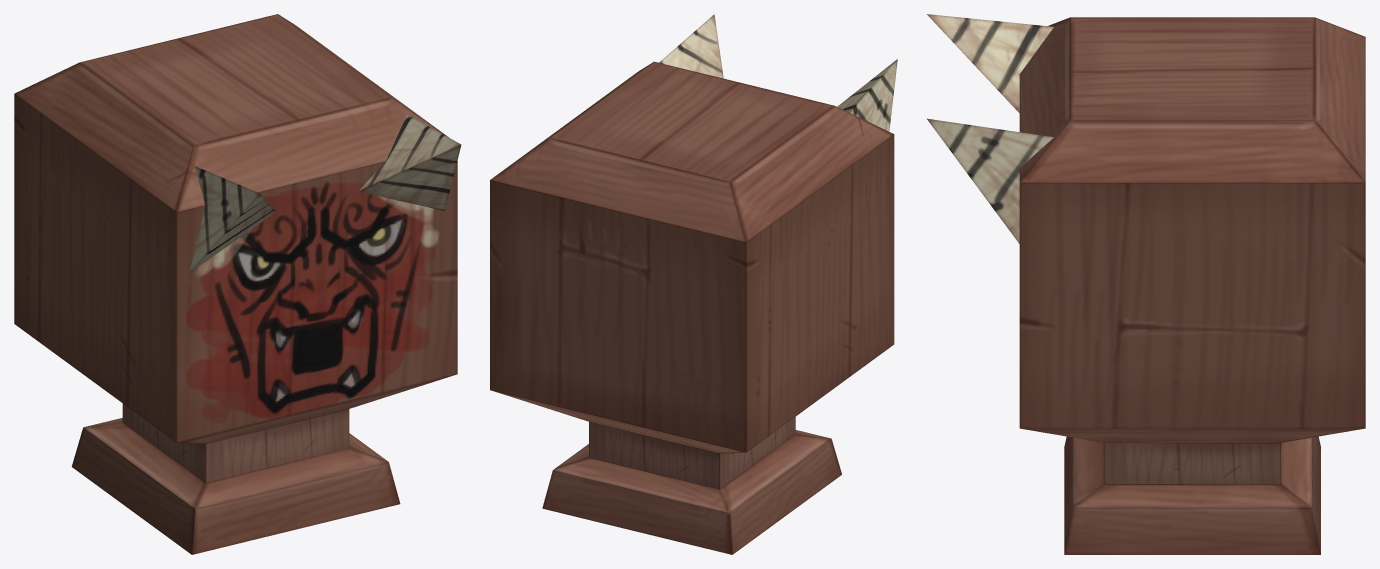
The model's file is Dispensador.fbx.
3 renders of one model, left to right at view 1: azimuth 30°, elevation 25°; view 2: azimuth 150°, elevation 25°; view 3: azimuth 270°, elevation 25°, orthographic. The views are drawn at different scales.
Visible parts, largest first — view 1: Dispensador; view 2: Dispensador; view 3: Dispensador.
Boxes of the visible parts, left/top/right/bottom form: Dispensador: left=14, top=14, right=461, bottom=554; Dispensador: left=490, top=14, right=897, bottom=554; Dispensador: left=927, top=14, right=1365, bottom=554.
Size of the model in its own units: 66.86 by 92.7 by 84.9.
Materials: 1 (1 with a texture image).
